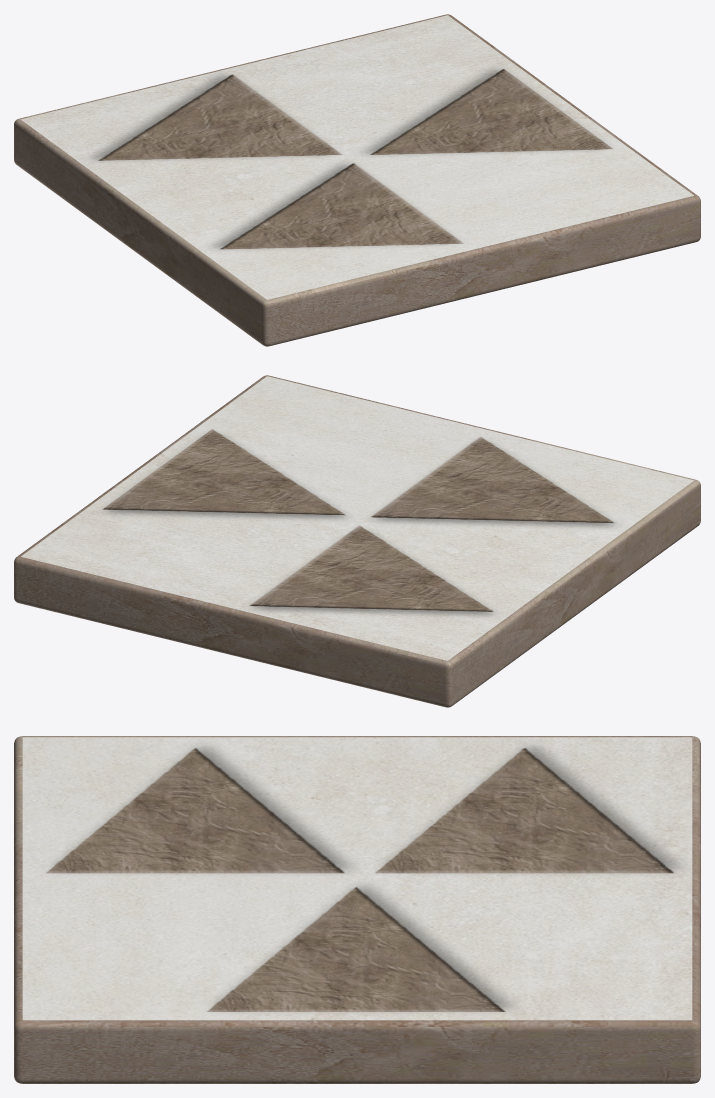
The model's file is tıle47.glb.
The picture shows the model from 3 angles, top to bottom: view 1: azimuth 30°, elevation 25°; view 2: azimuth 150°, elevation 25°; view 3: azimuth 270°, elevation 25°; orthographic projection. The views are drawn at different scales.
Visible parts, largest first — view 1: Box001; view 2: Box001; view 3: Box001.
Boxes of the visible parts, left/top/right/bottom form: Box001: left=14, top=14, right=700, bottom=346; Box001: left=14, top=375, right=700, bottom=707; Box001: left=14, top=736, right=700, bottom=1083.
Bounding box in the file's own units: 0.254 × 0.0254 × 0.254.
2 materials, 2 textured.
